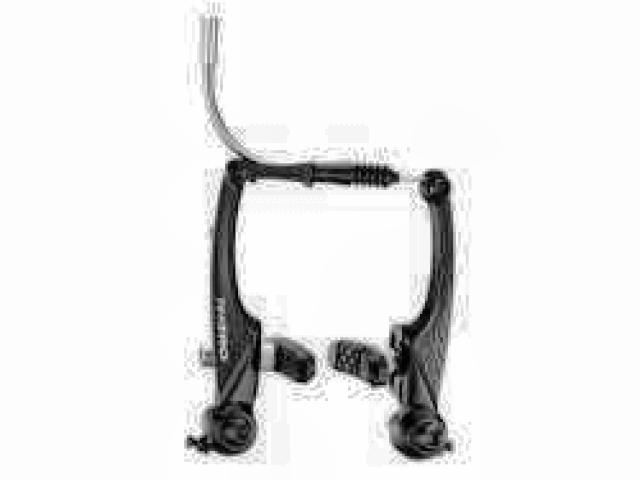rim_brake: (188, 156, 457, 463)
